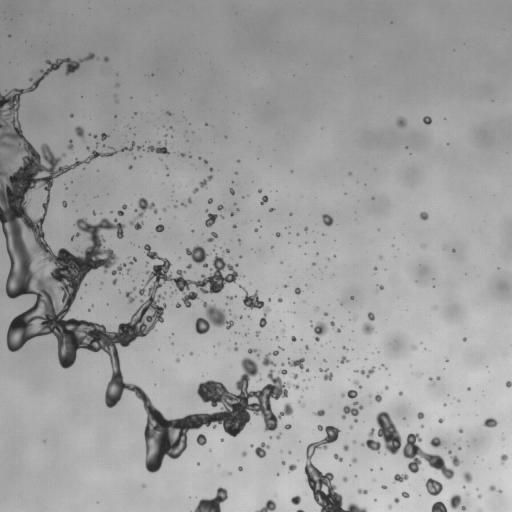droplet: (195, 301, 233, 334), (130, 198, 157, 229), (193, 487, 227, 511), (186, 245, 209, 267), (361, 428, 381, 452), (341, 401, 363, 422), (262, 347, 282, 366), (312, 321, 327, 341), (425, 478, 442, 495), (255, 442, 269, 457), (205, 213, 218, 227), (449, 494, 461, 509), (359, 366, 375, 377), (341, 389, 357, 399), (431, 501, 447, 511), (319, 368, 332, 380), (393, 473, 408, 482), (322, 214, 333, 226), (484, 418, 497, 427), (196, 434, 206, 445), (430, 437, 441, 447), (75, 126, 84, 138), (291, 495, 301, 505), (125, 291, 134, 302), (451, 455, 460, 466), (397, 117, 406, 127), (463, 472, 472, 482), (419, 211, 428, 220), (500, 454, 508, 464), (260, 195, 268, 204), (155, 224, 164, 232), (373, 393, 381, 402), (423, 116, 431, 124), (315, 409, 324, 416), (357, 488, 367, 494), (340, 356, 348, 363), (288, 464, 296, 471), (277, 369, 287, 374), (101, 133, 108, 140), (294, 287, 301, 294), (402, 491, 409, 498), (68, 140, 73, 149), (417, 412, 423, 419), (489, 485, 496, 491), (229, 188, 234, 194), (217, 205, 223, 210), (377, 285, 383, 290), (291, 336, 296, 342), (429, 377, 434, 383), (506, 381, 511, 387), (285, 424, 291, 429), (276, 433, 281, 439), (343, 444, 348, 450), (193, 187, 198, 192), (207, 198, 212, 203), (186, 264, 191, 269), (292, 373, 297, 378), (438, 418, 443, 423), (458, 428, 463, 433), (394, 497, 399, 502), (62, 201, 66, 207), (275, 232, 280, 236), (112, 279, 116, 284), (277, 298, 282, 302), (330, 321, 334, 326), (242, 451, 246, 456), (238, 466, 242, 471), (104, 57, 108, 61), (167, 111, 171, 115), (181, 202, 185, 206), (230, 212, 234, 216), (176, 303, 180, 307), (382, 364, 386, 368), (436, 376, 440, 380), (352, 458, 356, 462), (343, 477, 347, 481), (382, 485, 386, 489), (477, 494, 481, 498), (180, 153, 184, 156), (203, 160, 207, 163), (209, 167, 213, 170), (188, 198, 191, 202), (270, 208, 274, 211), (232, 225, 236, 228), (304, 227, 307, 231), (171, 291, 175, 294), (337, 328, 340, 332), (256, 331, 259, 335), (463, 337, 466, 341), (412, 346, 416, 349), (399, 391, 402, 395), (462, 506, 465, 510), (93, 134, 96, 137), (258, 189, 261, 192), (92, 211, 95, 214), (374, 267, 377, 270), (126, 269, 129, 272), (324, 312, 327, 315), (305, 345, 308, 348), (343, 346, 346, 349), (385, 386, 388, 389), (349, 425, 352, 428), (282, 461, 285, 464), (388, 505, 391, 508), (478, 509, 482, 511), (116, 83, 118, 86), (70, 114, 73, 116), (129, 166, 132, 168), (163, 208, 165, 211), (238, 239, 240, 242), (226, 249, 229, 251), (452, 249, 455, 251), (313, 262, 315, 265), (284, 284, 286, 287), (276, 337, 278, 340), (190, 352, 192, 355), (176, 359, 179, 361), (281, 363, 284, 365), (301, 403, 303, 406), (220, 439, 223, 441), (353, 440, 355, 443), (288, 451, 291, 453), (448, 451, 451, 453), (228, 472, 230, 475), (276, 473, 279, 475), (498, 490, 501, 492), (87, 147, 89, 149), (237, 160, 239, 162), (165, 166, 167, 168), (255, 229, 257, 231), (422, 245, 424, 247), (146, 263, 148, 265), (133, 288, 135, 290), (316, 307, 318, 309), (245, 333, 247, 335), (324, 359, 326, 361), (446, 359, 448, 361), (459, 447, 461, 449)
ligament: (0, 55, 298, 473), (304, 425, 367, 511), (377, 411, 454, 479), (239, 285, 270, 327), (288, 358, 308, 372), (137, 145, 168, 154), (362, 312, 374, 334), (256, 500, 276, 511), (120, 141, 135, 152), (199, 175, 212, 187), (112, 263, 125, 274), (117, 204, 126, 215), (208, 232, 217, 242), (333, 454, 342, 461), (71, 233, 79, 240), (354, 380, 361, 388), (248, 348, 257, 353), (130, 258, 136, 264), (227, 295, 235, 299), (234, 344, 237, 350), (296, 509, 304, 511)
